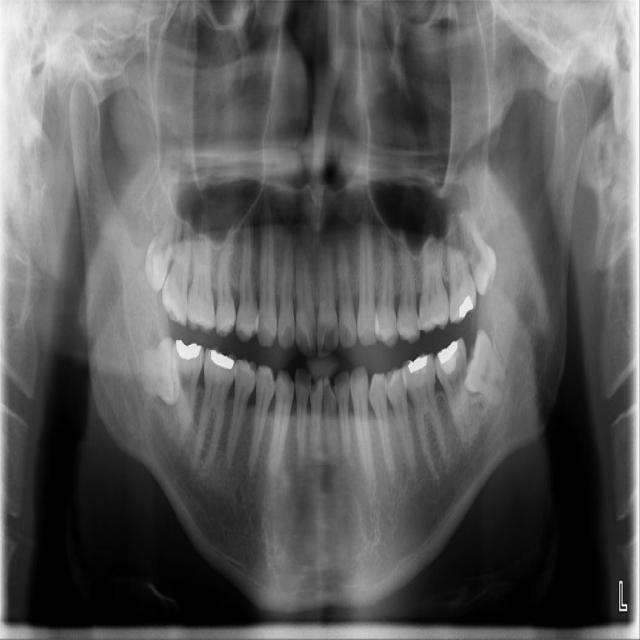Filling: (436, 339, 463, 375), (205, 350, 235, 371), (176, 340, 202, 364), (160, 289, 180, 320), (404, 354, 432, 376), (455, 293, 475, 320)
impacted tooth: (464, 329, 512, 404), (457, 209, 498, 292), (132, 335, 178, 405), (143, 209, 176, 289)
